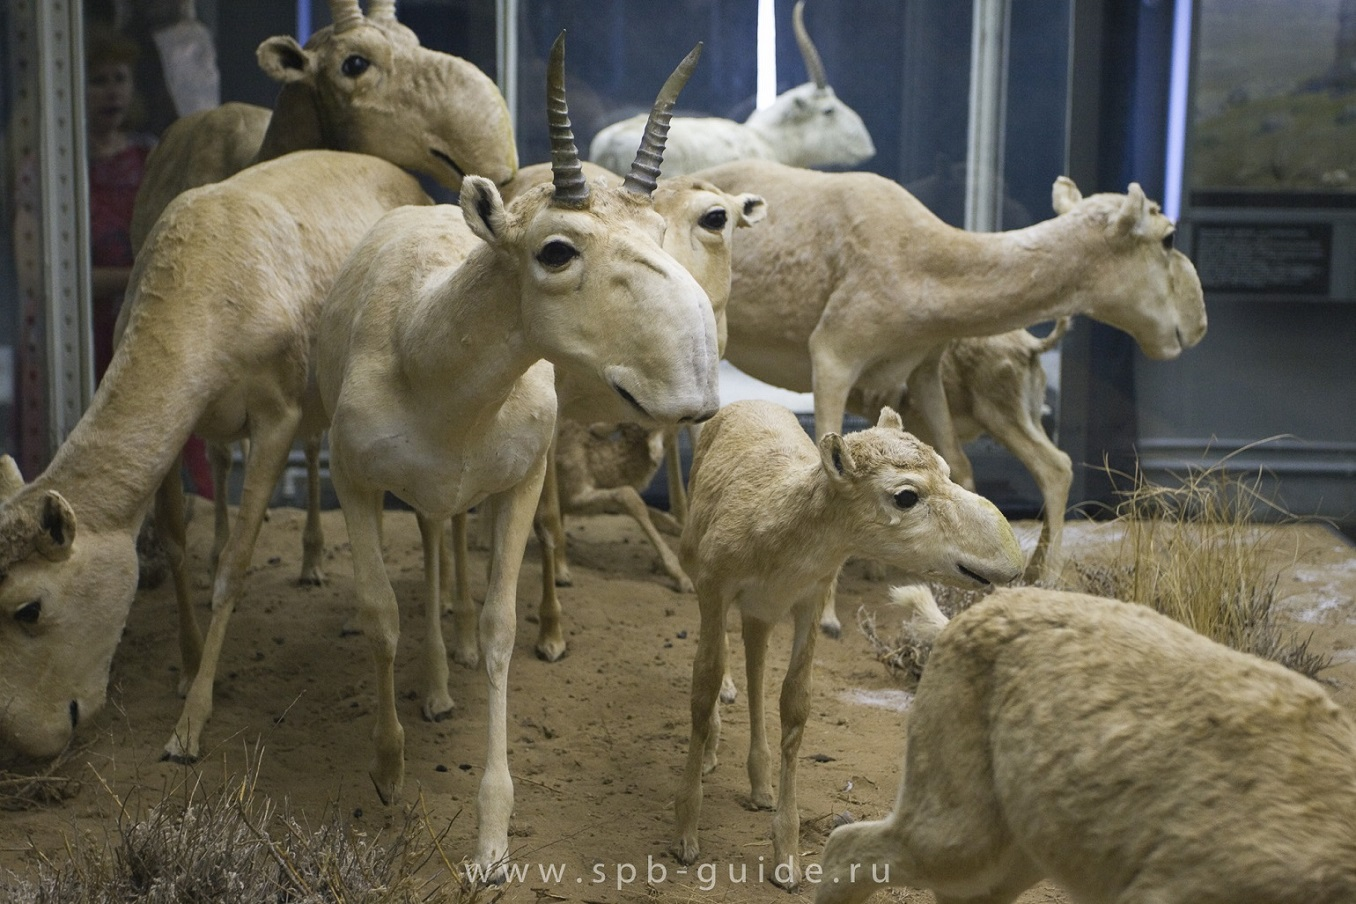saiga: (314, 27, 725, 903), (680, 393, 1040, 869)
